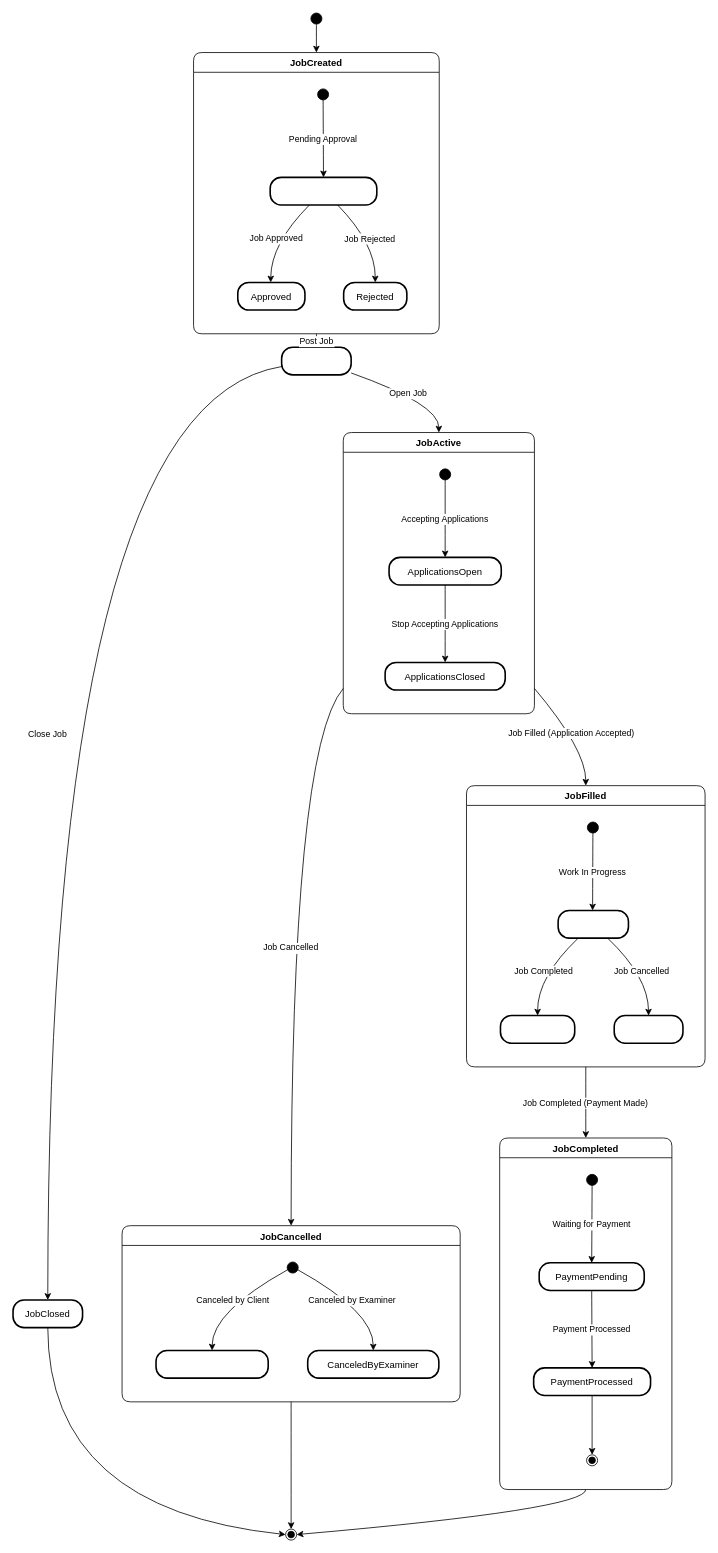
This 718x1553 diagram has some shape labels left out. The shapes that lost their labels are listed below. From the top down, each one's centre as x and y in pixels, then its label:
At [323,190]: "PendingApproval".
At [316,360]: "JobPosted".
At [593,924]: "InProgress".
At [537,1029]: "Completed".
At [648,1029]: "Cancelled".
At [212,1364]: "CanceledByClient".
